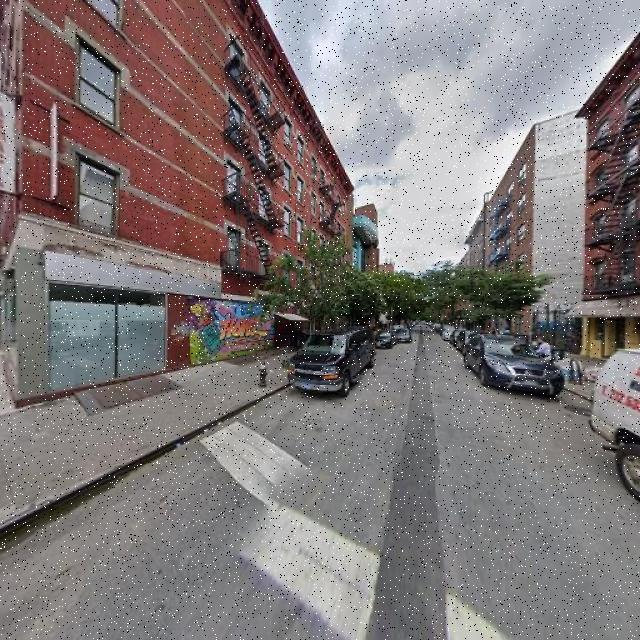Building: (33, 1, 345, 394), (589, 38, 640, 360)
